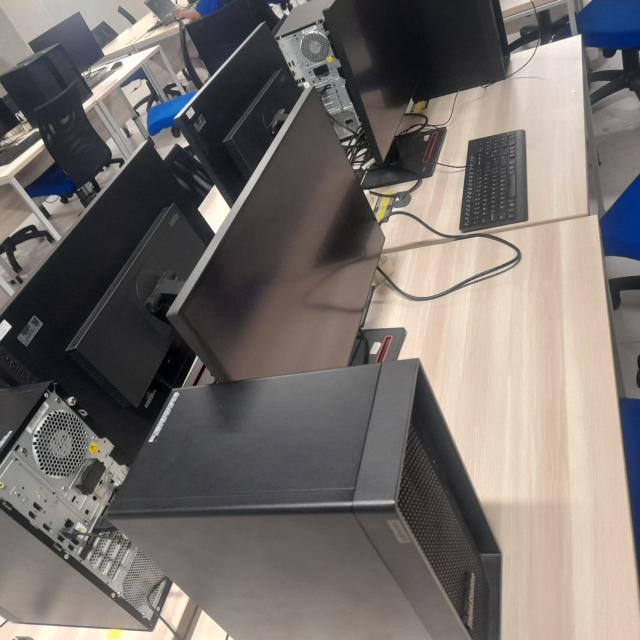keyboard: (459, 129, 529, 233)
monitor: (166, 84, 406, 382), (0, 138, 215, 466), (173, 20, 304, 208), (322, 0, 448, 190), (183, 0, 280, 75), (27, 11, 106, 75)
pc: (106, 357, 502, 640), (0, 381, 173, 632), (273, 0, 363, 143), (399, 0, 511, 101), (0, 43, 93, 128)
